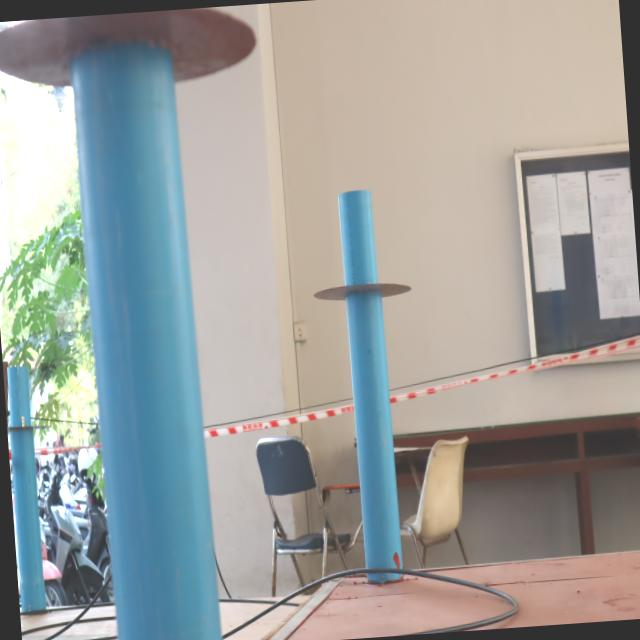pole: (304, 182, 423, 392), (2, 358, 51, 504)
